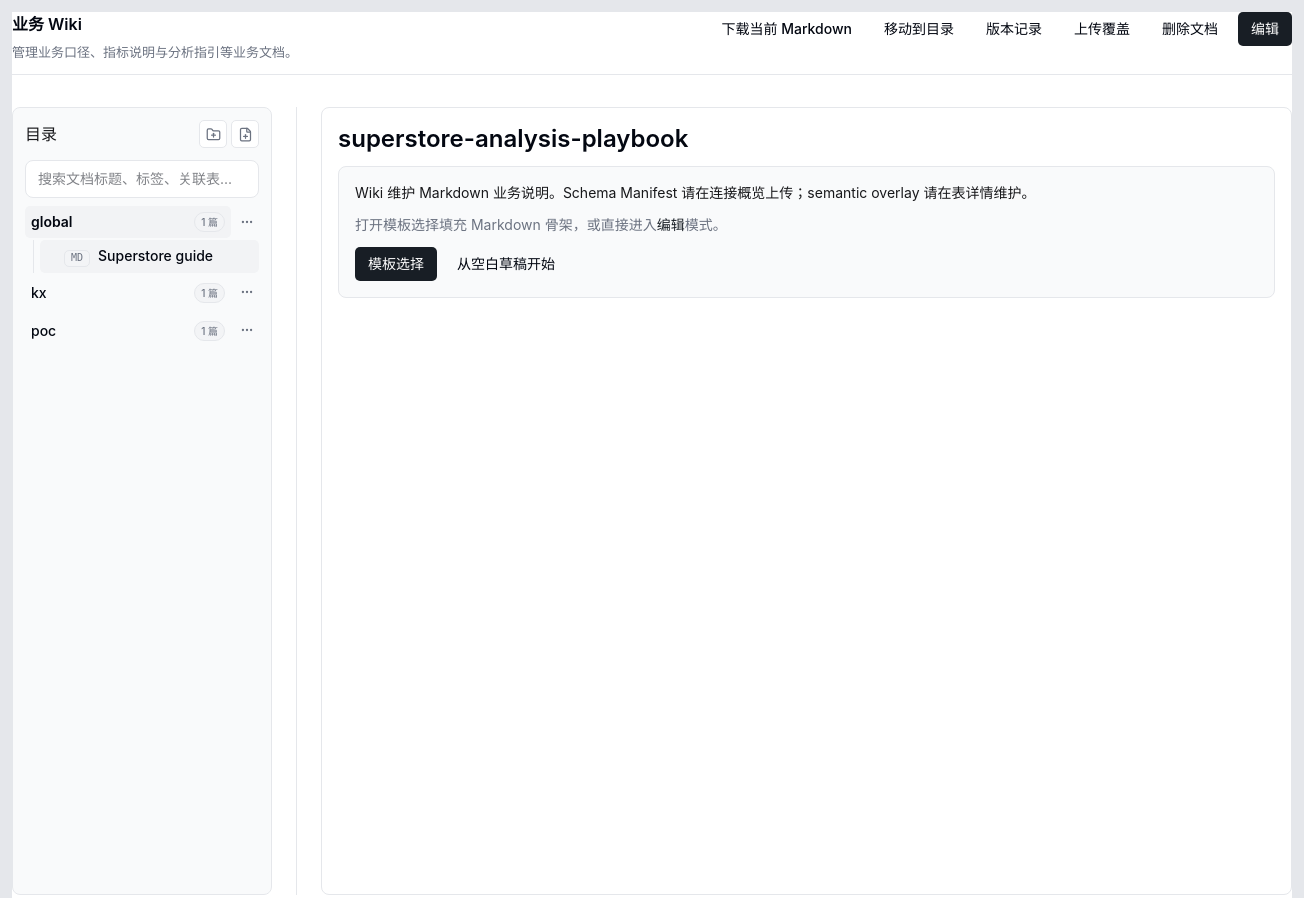
WikiEditor Edit Mode (P0) › clicking 编辑 shows the source textarea and hides Diff / Raw tabs
Click the button with test id "wiki-edit-button" at [1265, 29], box [1238,12,1292,46]
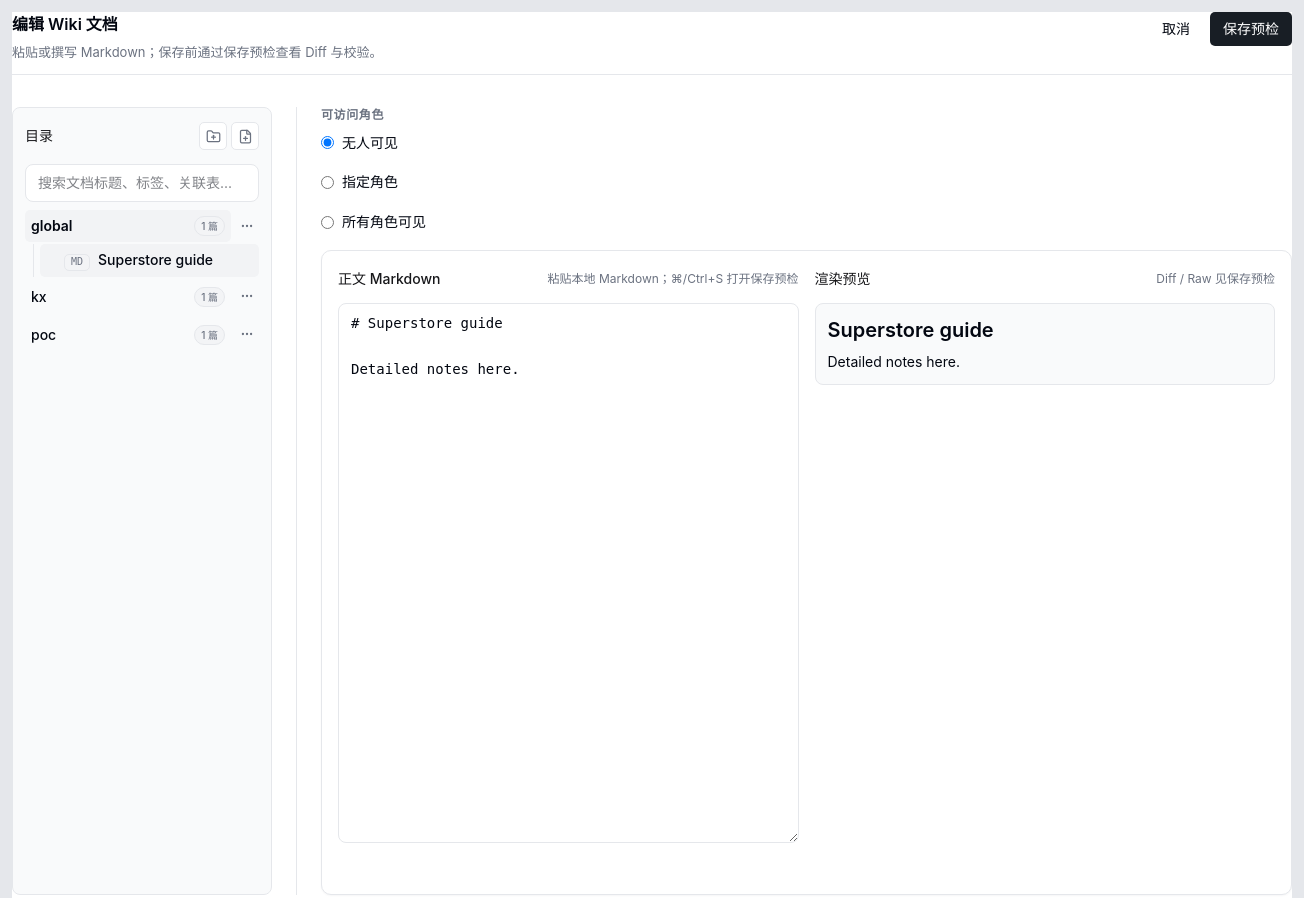
Now the text box with test id "wiki-edit-textarea" is shown, box [338,303,798,843]
Now the element with test id "wiki-edit-preview" is shown, box [814,303,1275,385]
